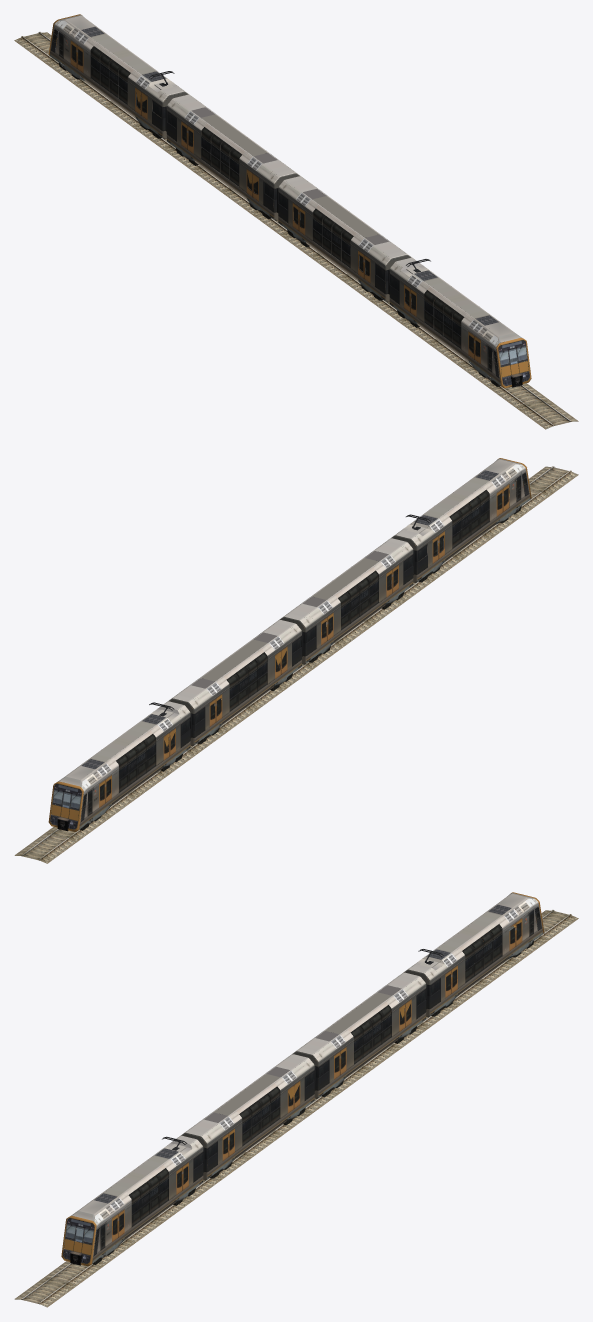
Rendered from tangara-sydney-trains-t-set-07d7a6.glb.
The picture shows the model from 3 angles, top to bottom: view 1: azimuth 30°, elevation 25°; view 2: azimuth 150°, elevation 25°; view 3: azimuth 330°, elevation 25°; orthographic projection.
Parts seen in each view (by area): view 1: PropMesh; view 2: PropMesh; view 3: PropMesh.
Part boxes in pixels (left/top/right/bottom): PropMesh: left=14, top=14, right=578, bottom=429; PropMesh: left=14, top=458, right=578, bottom=863; PropMesh: left=14, top=892, right=578, bottom=1307.
Size of the model in its own units: 0.0363 by 0.061 by 1.
8 materials, 8 textured.
